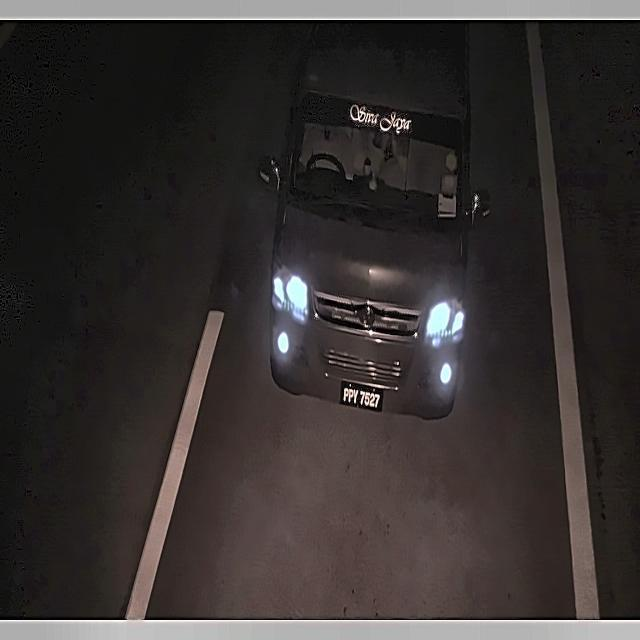car: (338, 372, 391, 417)
